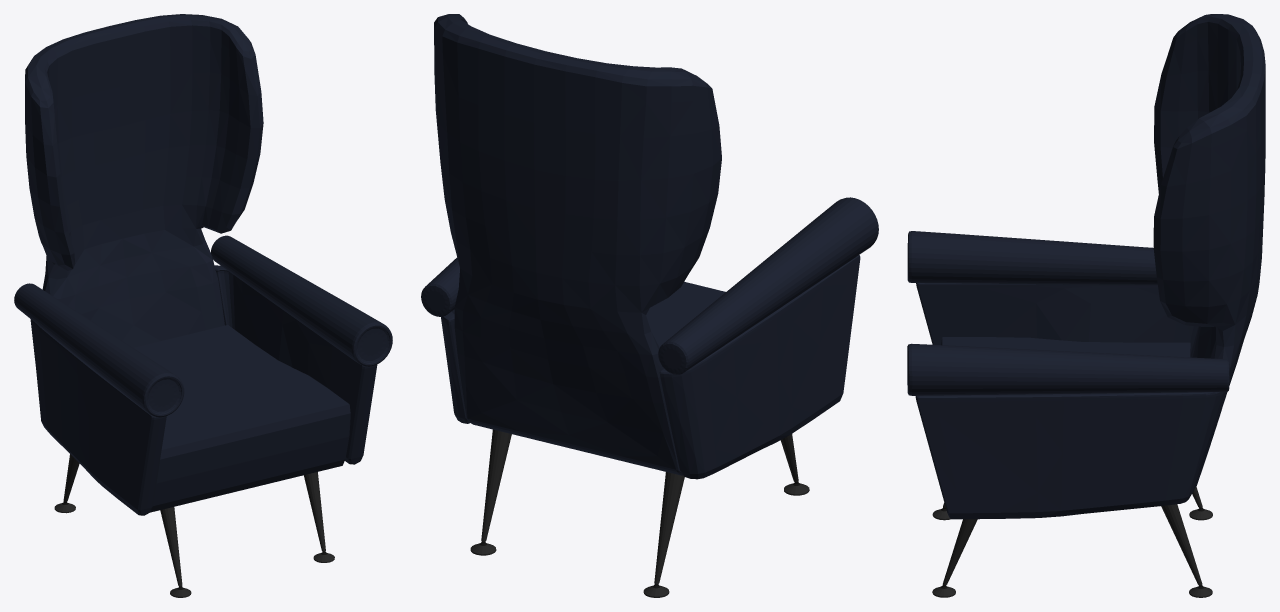
File: armchair.obj
The picture shows the model from 3 angles, left to right: view 1: azimuth 30°, elevation 25°; view 2: azimuth 150°, elevation 25°; view 3: azimuth 270°, elevation 25°; orthographic projection. The views are drawn at different scales.
Parts seen in each view (by area): view 1: sillon_orejas.001_Cub, sillonrejas_pot.0; view 2: sillon_orejas.001_Cub, sillonrejas_pot.0; view 3: sillon_orejas.001_Cub, sillonrejas_pot.0.
Part boxes in pixels (left/top/right/bottom): sillon_orejas.001_Cub: left=14, top=14, right=392, bottom=515; sillonrejas_pot.0: left=54, top=454, right=334, bottom=597; sillon_orejas.001_Cub: left=421, top=14, right=878, bottom=479; sillonrejas_pot.0: left=470, top=429, right=809, bottom=597; sillon_orejas.001_Cub: left=907, top=14, right=1265, bottom=519; sillonrejas_pot.0: left=932, top=487, right=1212, bottom=597.
Bounding box in the file's own units: 0.5851 × 1 × 0.6573.
